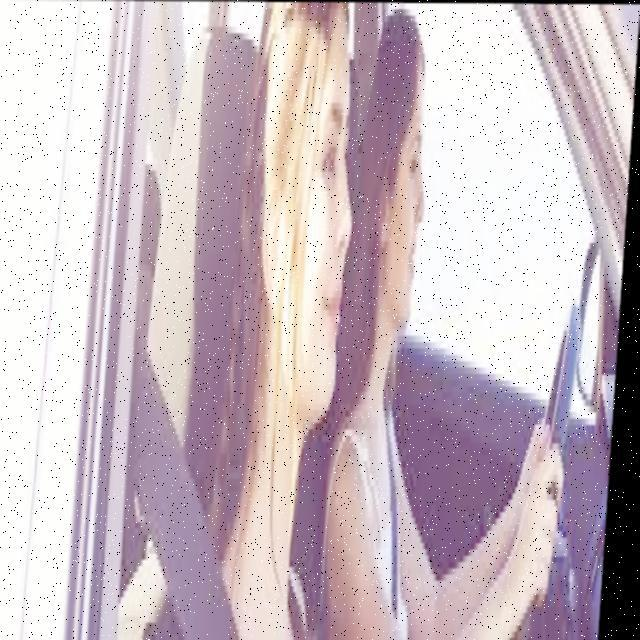seatbelt: (120, 321, 267, 640), (346, 365, 438, 640)
